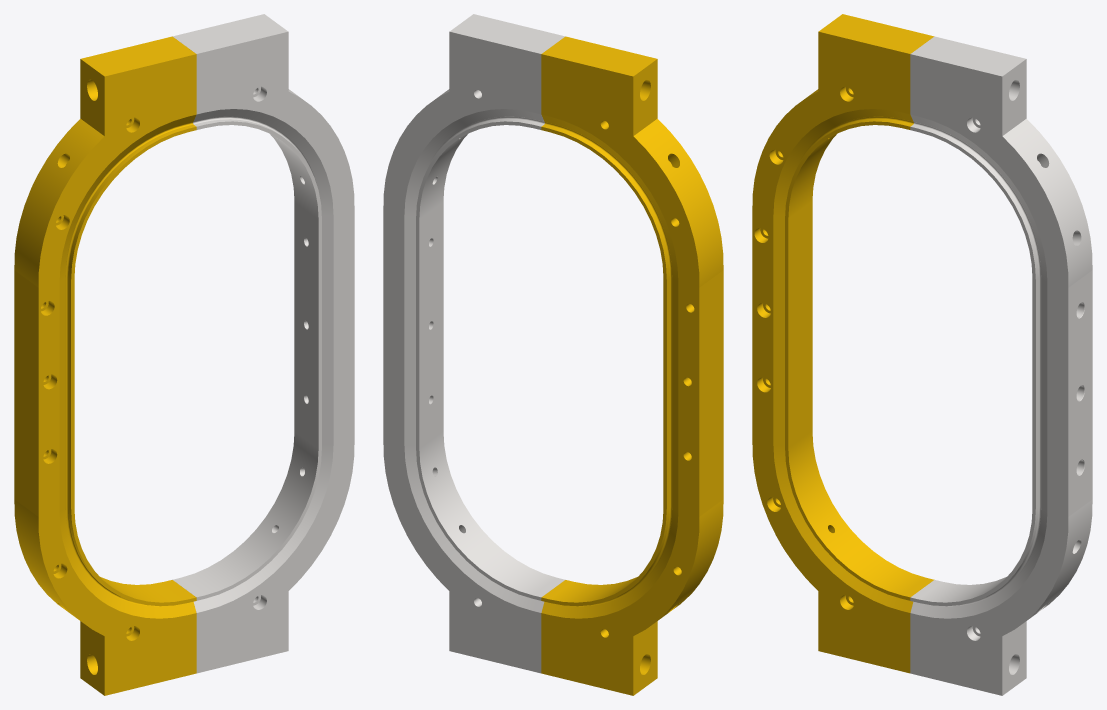
The model's file is pieza_completa.glb.
3 views of the same model, side by side, from view 1: azimuth 30°, elevation 25°; view 2: azimuth 150°, elevation 25°; view 3: azimuth 330°, elevation 25° (orthographic).
Parts seen in each view (by area): view 1: PARTE IZQUERDA-1, PARTE DERECHA-1; view 2: PARTE IZQUERDA-1, PARTE DERECHA-1; view 3: PARTE DERECHA-1, PARTE IZQUERDA-1.
Part boxes in pixels (x1,y1,x2,y2): PARTE IZQUERDA-1: [14, 36, 196, 695]; PARTE DERECHA-1: [172, 14, 354, 673]; PARTE IZQUERDA-1: [541, 36, 723, 695]; PARTE DERECHA-1: [383, 14, 565, 673]; PARTE DERECHA-1: [910, 36, 1092, 695]; PARTE IZQUERDA-1: [752, 14, 934, 673].
Size of the model in its own units: 0.378 by 0.708 by 0.05.
